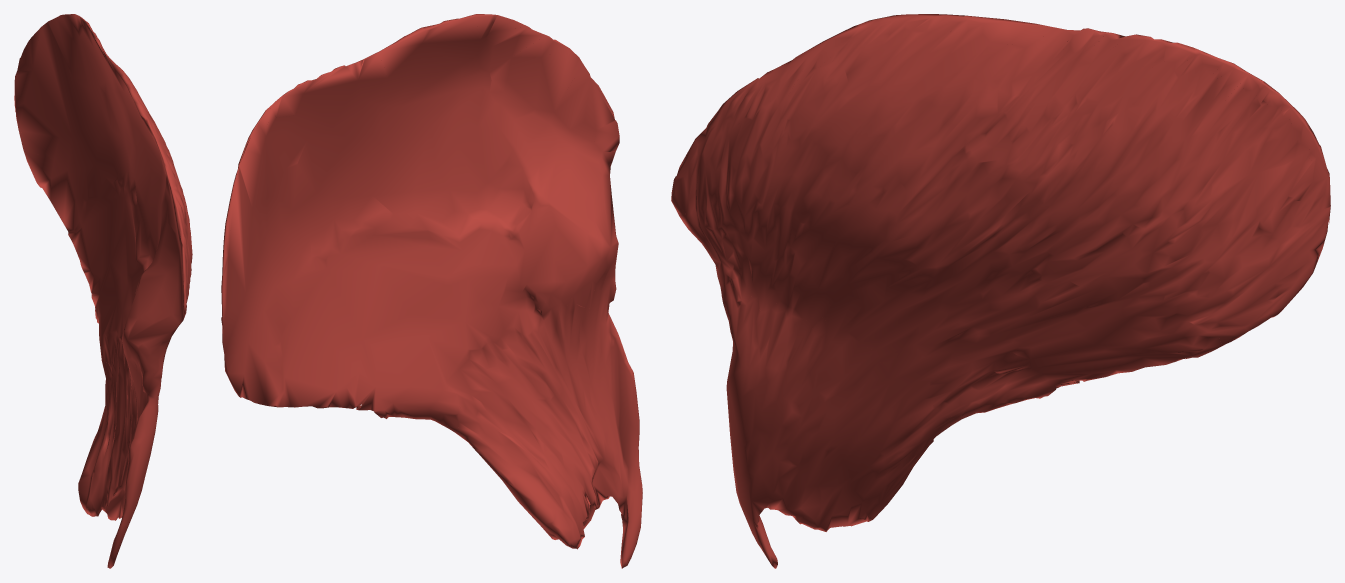
File: musculos-temporalis-muscle-l.glb
The picture shows the model from 3 angles, left to right: view 1: azimuth 30°, elevation 25°; view 2: azimuth 150°, elevation 25°; view 3: azimuth 270°, elevation 25°; orthographic projection. The views are drawn at different scales.
Visible parts, largest first — view 1: Temporalis muscle.l; view 2: Temporalis muscle.l; view 3: Temporalis muscle.l.
Boxes of the visible parts, x1,y1,x2,y2 form: Temporalis muscle.l: (14,14,192,568); Temporalis muscle.l: (221,14,642,568); Temporalis muscle.l: (671,14,1330,568).
Bounding box in the file's own units: 0.0391 × 0.116 × 0.1139.
